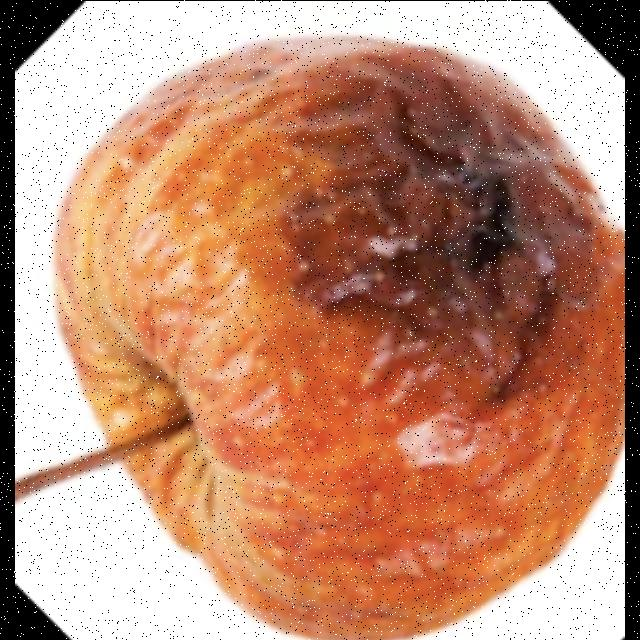Apel Tidak Segar: (58, 47, 624, 638)
